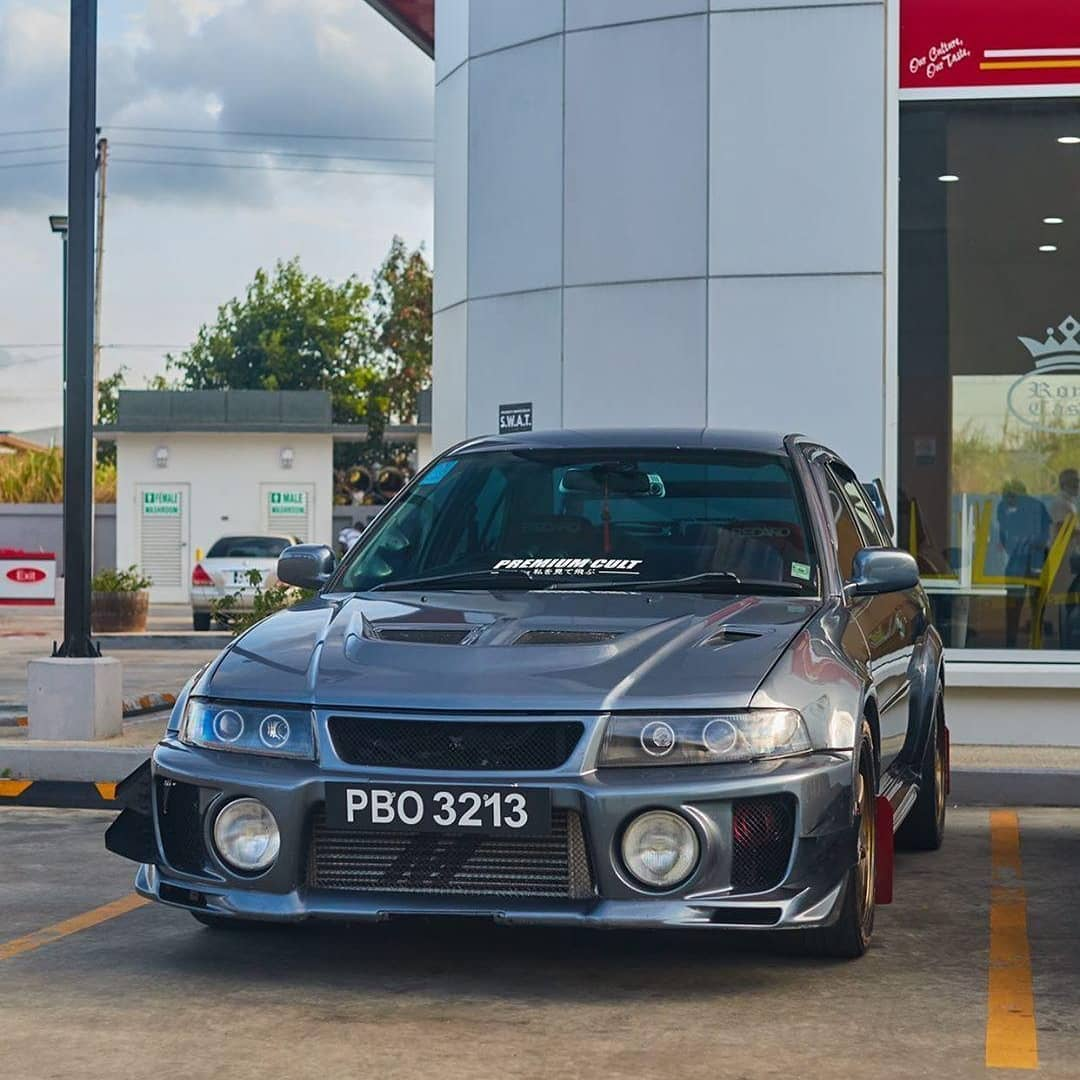License-Plate: (326, 780, 549, 826)
